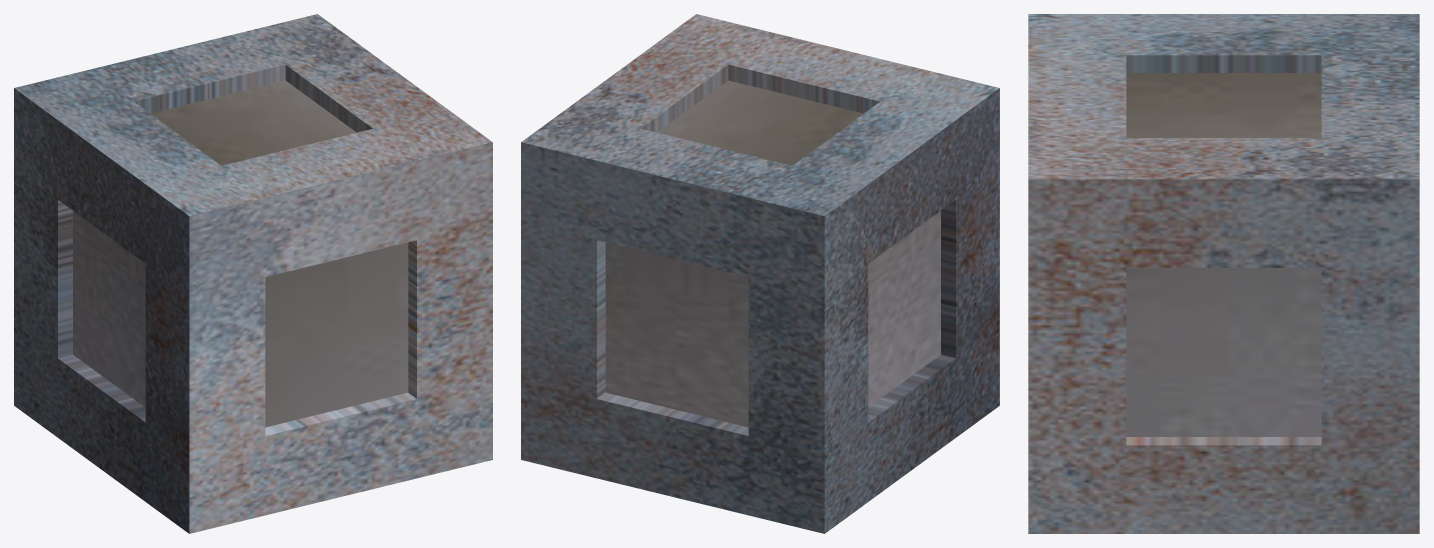
Rendered from SteelCrate.glb.
3 views of the same model, side by side, from view 1: azimuth 30°, elevation 25°; view 2: azimuth 150°, elevation 25°; view 3: azimuth 270°, elevation 25° (orthographic). The views are drawn at different scales.
Visible parts, largest first — view 1: Cube; view 2: Cube; view 3: Cube.
Boxes of the visible parts, <box> form: Cube: <box>14,14,492,533</box>; Cube: <box>521,14,999,533</box>; Cube: <box>1028,14,1419,533</box>.
Size of the model in its own units: 2 by 2 by 2.
2 materials, 2 textured.
